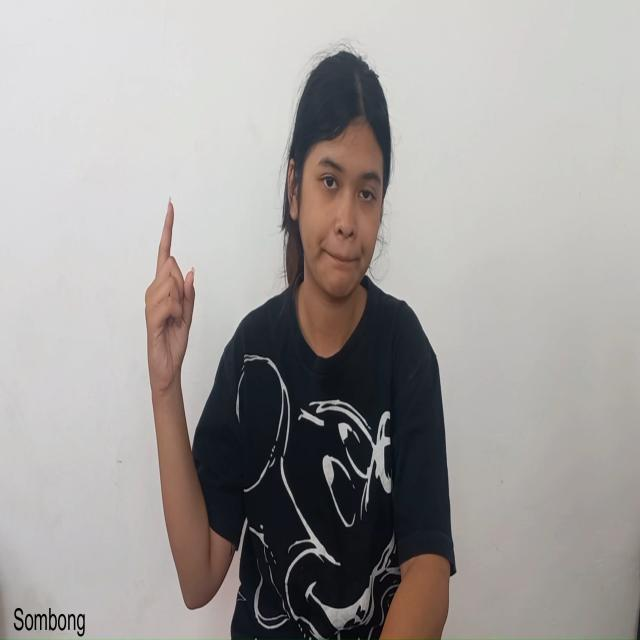Sombong -BISINDO-: (140, 190, 240, 615)
